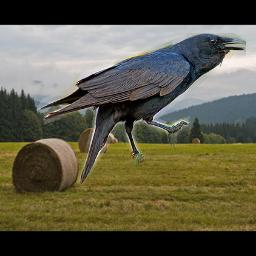Crow: (37, 33, 246, 185)
